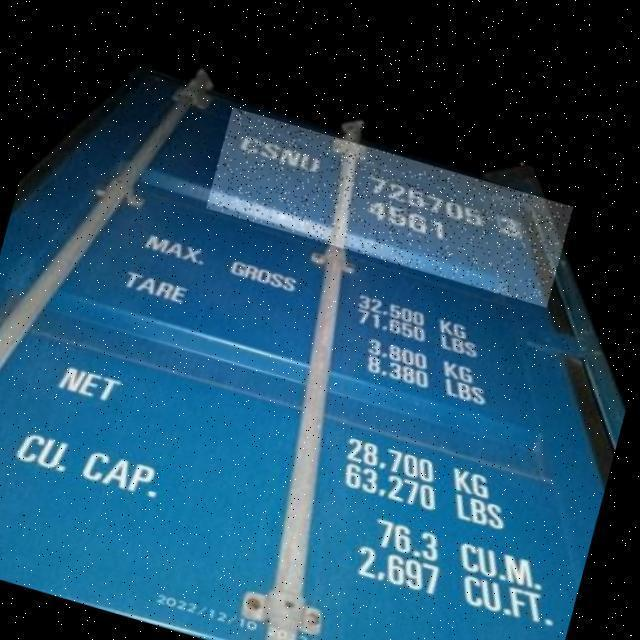container_number_h: (205, 103, 576, 302)
